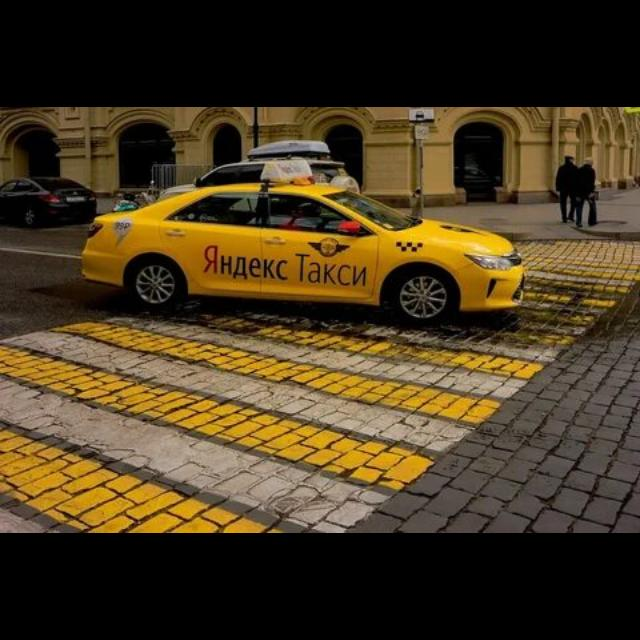taxi: (80, 156, 526, 326)
